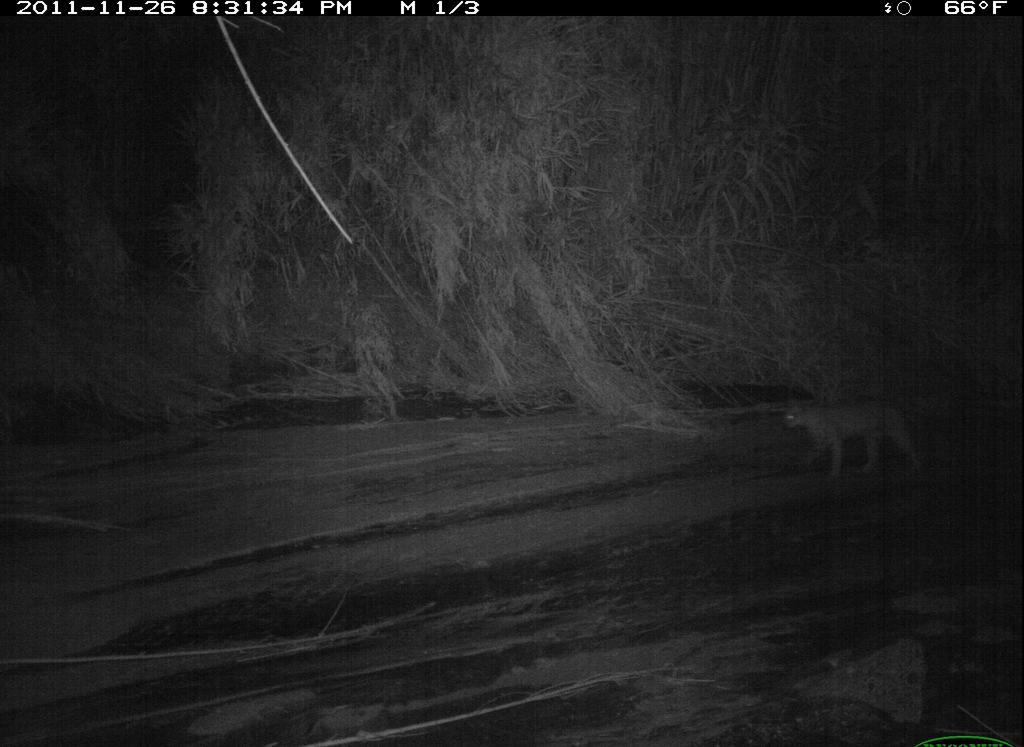bobcat: (779, 387, 936, 493)
